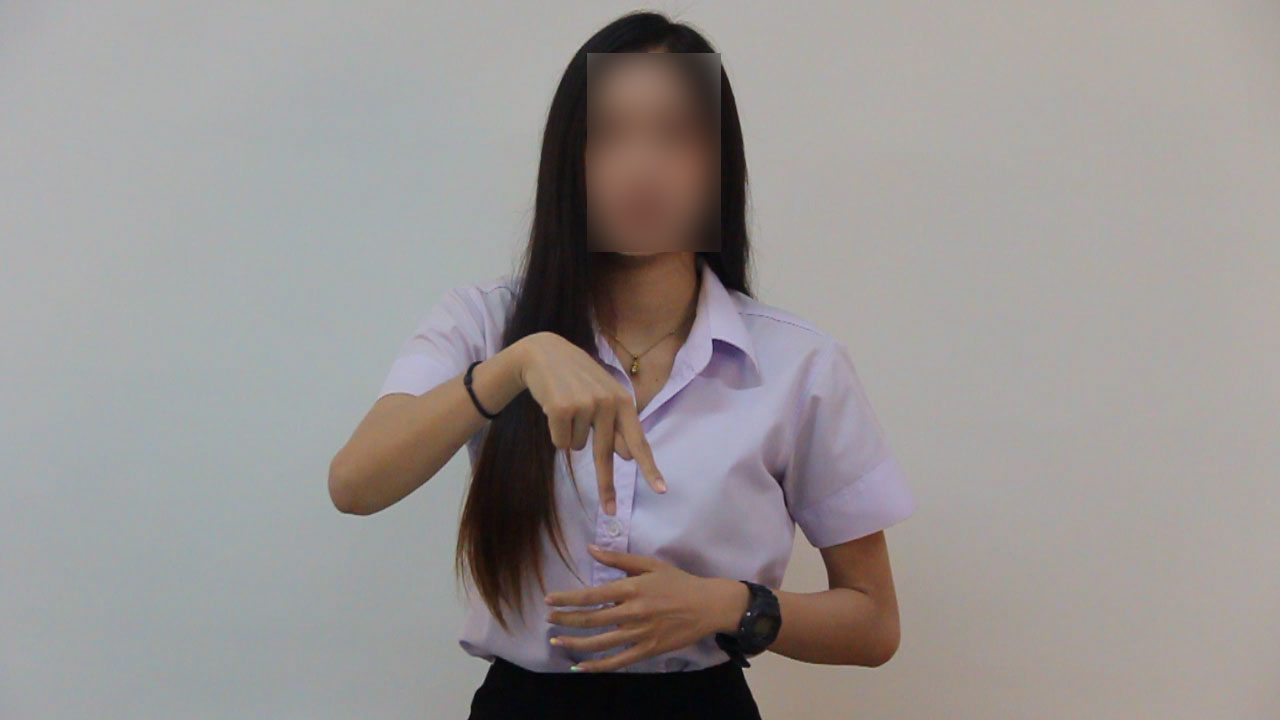por: (516, 317, 681, 519)
